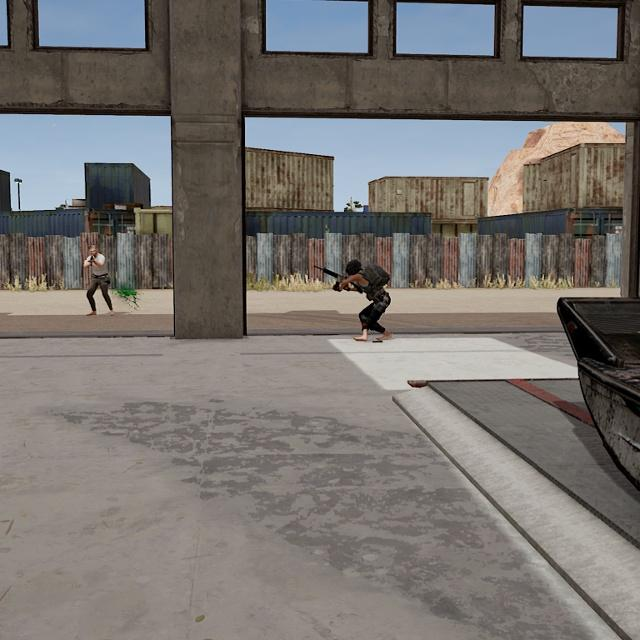head: (345, 258, 362, 276), (87, 242, 100, 257)
people: (335, 259, 393, 342), (84, 241, 116, 317)
